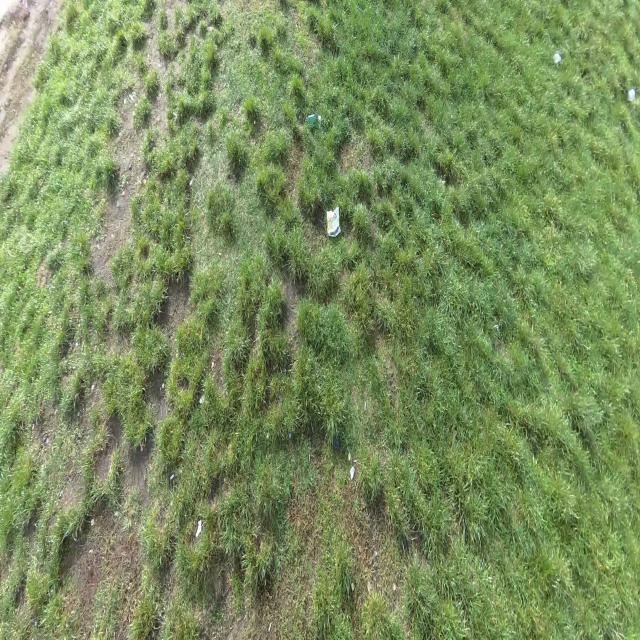rubbish: (326, 202, 341, 237), (305, 112, 322, 125), (332, 429, 340, 452), (552, 50, 561, 66), (625, 86, 635, 100)
